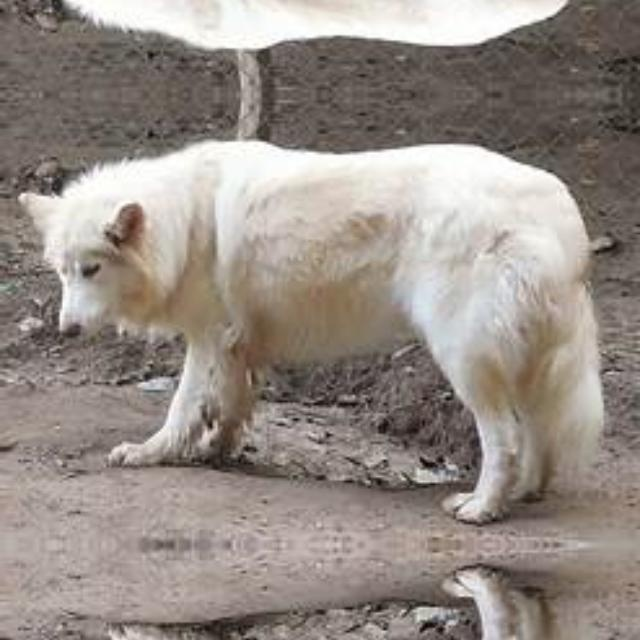dog: (0, 140, 608, 520), (0, 569, 608, 640), (0, 0, 608, 48)
